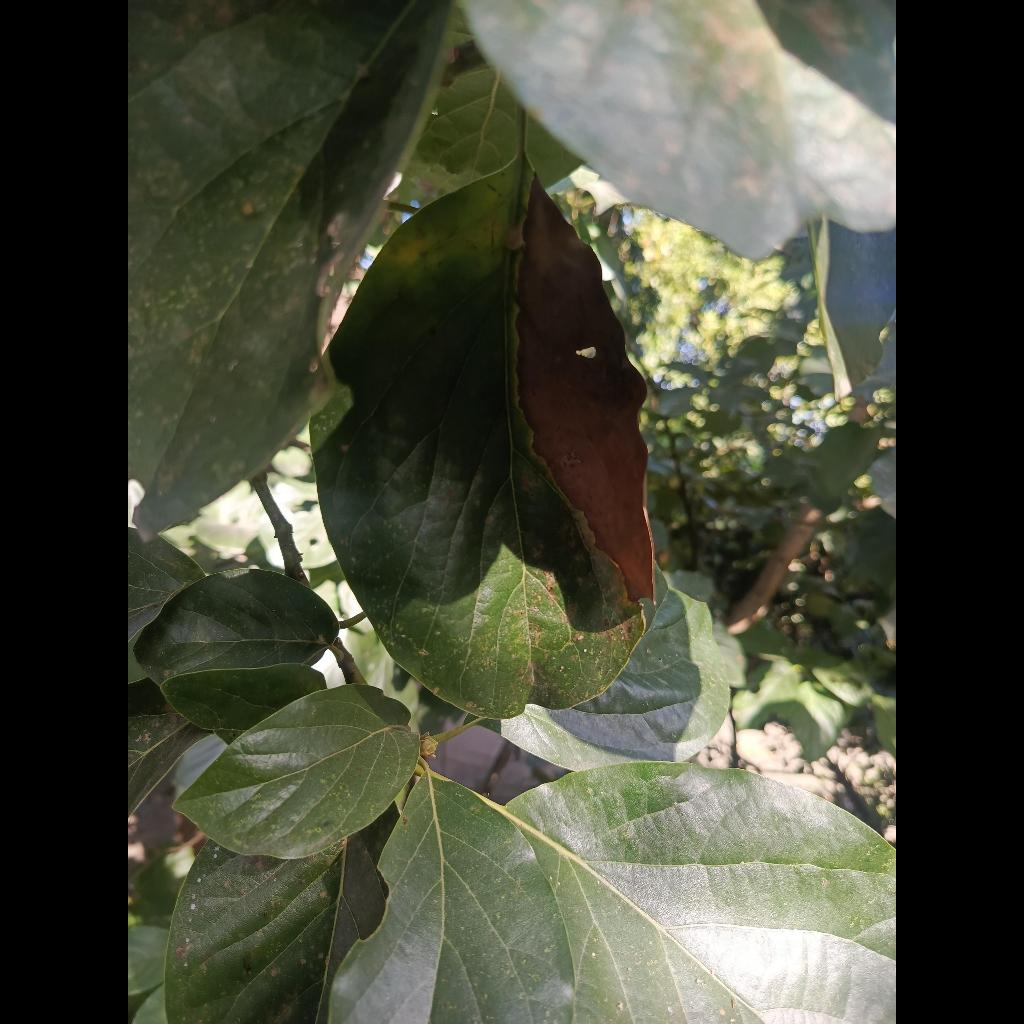antracnosis_hoja: (315, 157, 654, 717)
